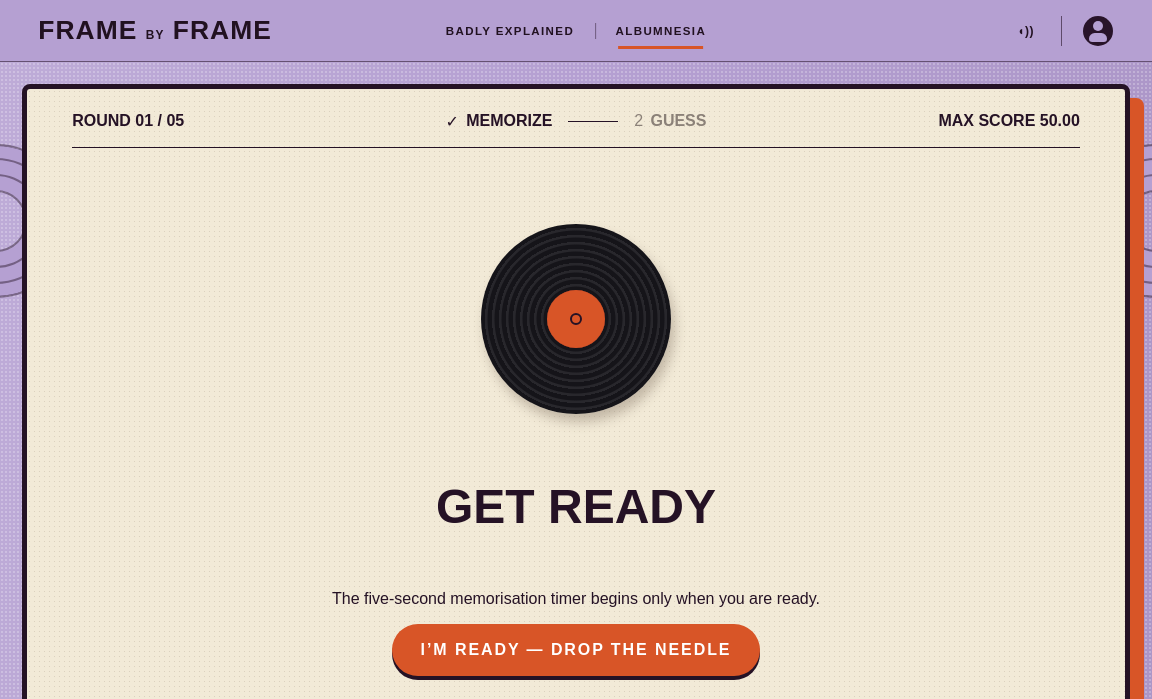
Albumnesia player › decodes the private cover before telling the server a round is ready
Click the button "I’M READY — DROP THE NEEDLE".
click(576, 650)  # box [392, 624, 760, 676]
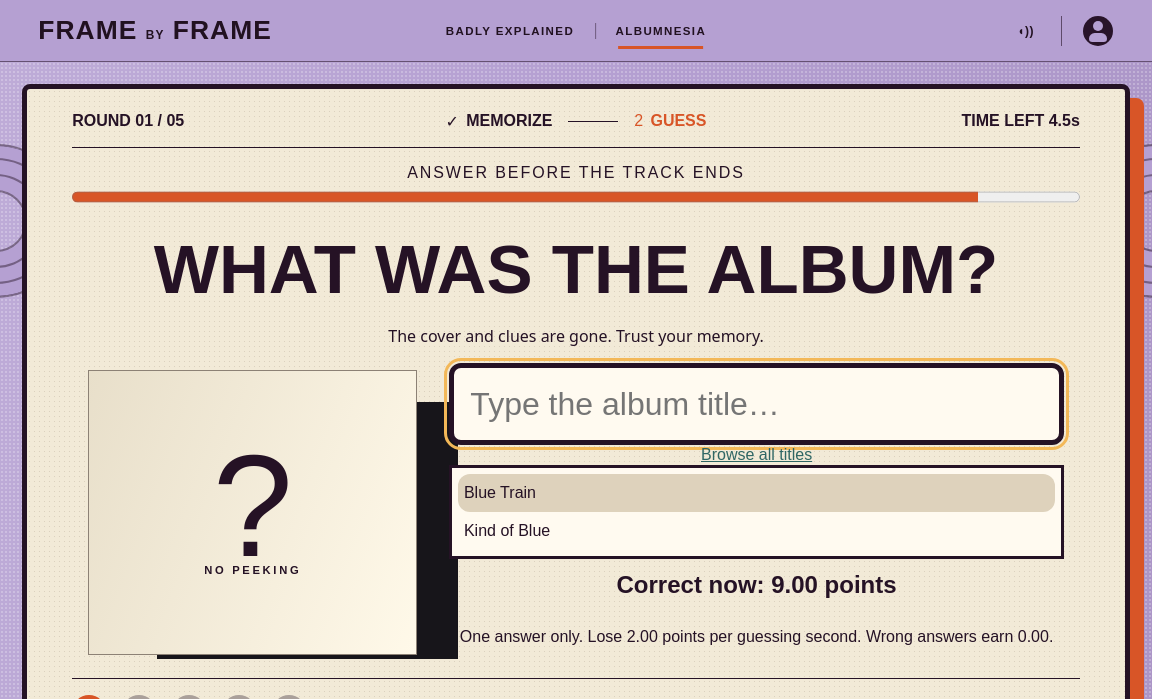
Expected: the heading "WHAT WAS THE ALBUM?" is shown, [154, 230, 998, 308]
